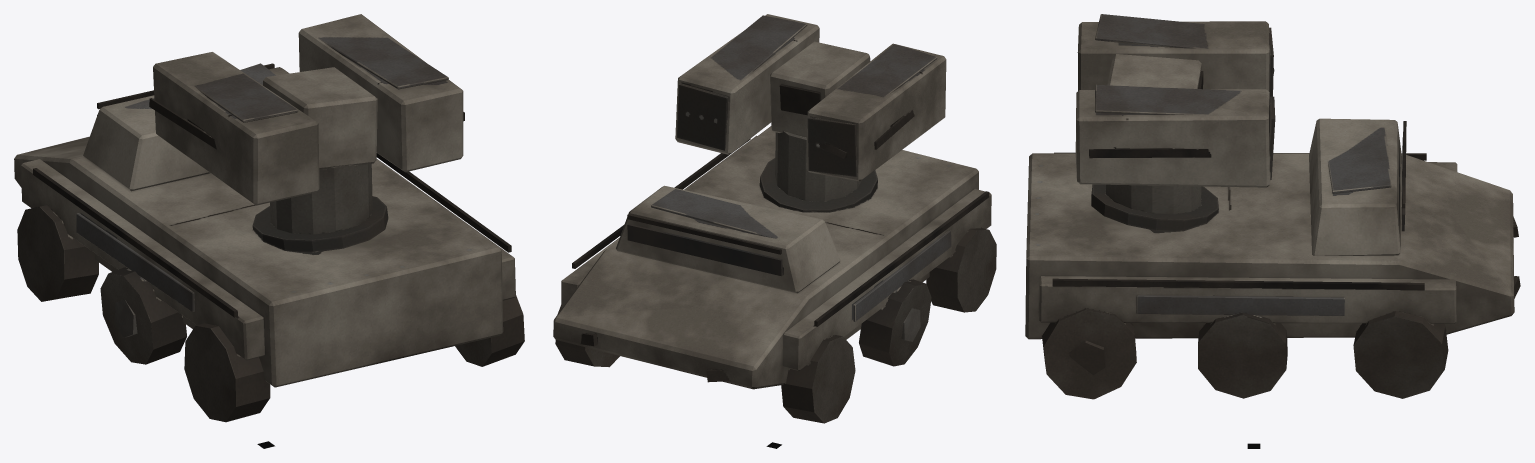
File: ord_halo_wreck.fbx
The picture shows the model from 3 angles, left to right: view 1: azimuth 30°, elevation 25°; view 2: azimuth 150°, elevation 25°; view 3: azimuth 270°, elevation 25°; orthographic projection. The views are drawn at different scales.
Parts seen in each view (by area): view 1: base_bar, launcher_bar, wheelL3_bar, wheelL2_bar, wheelL1_bar, turret_bar, wheelR3_bar; view 2: base_bar, launcher_bar, wheelL1_bar, wheelL2_bar, wheelL3_bar, turret_bar, wheelR1_bar; view 3: base_bar, launcher_bar, wheelR3_bar, wheelR1_bar, wheelR2_bar, turret_bar.
Part boxes in pixels (x1,y1,x2,y2): base_bar: [14, 63, 515, 387]; launcher_bar: [149, 14, 464, 205]; wheelL3_bar: [184, 323, 270, 422]; wheelL2_bar: [100, 267, 186, 364]; wheelL1_bar: [17, 205, 98, 301]; turret_bar: [270, 164, 372, 234]; wheelR3_bar: [455, 295, 524, 366]; base_bar: [553, 126, 991, 389]; launcher_bar: [675, 14, 946, 181]; wheelL1_bar: [781, 335, 855, 423]; wheelL2_bar: [859, 279, 931, 366]; wheelL3_bar: [926, 228, 996, 312]; turret_bar: [775, 131, 862, 201]; wheelR1_bar: [555, 305, 619, 367]; base_bar: [1025, 118, 1520, 339]; launcher_bar: [1075, 14, 1275, 187]; wheelR3_bar: [1042, 308, 1136, 399]; wheelR1_bar: [1353, 311, 1448, 398]; wheelR2_bar: [1198, 312, 1287, 398]; turret_bar: [1106, 184, 1201, 214].
Bounding box in the file's own units: 520 × 676 × 788.
2 materials, 2 textured.
